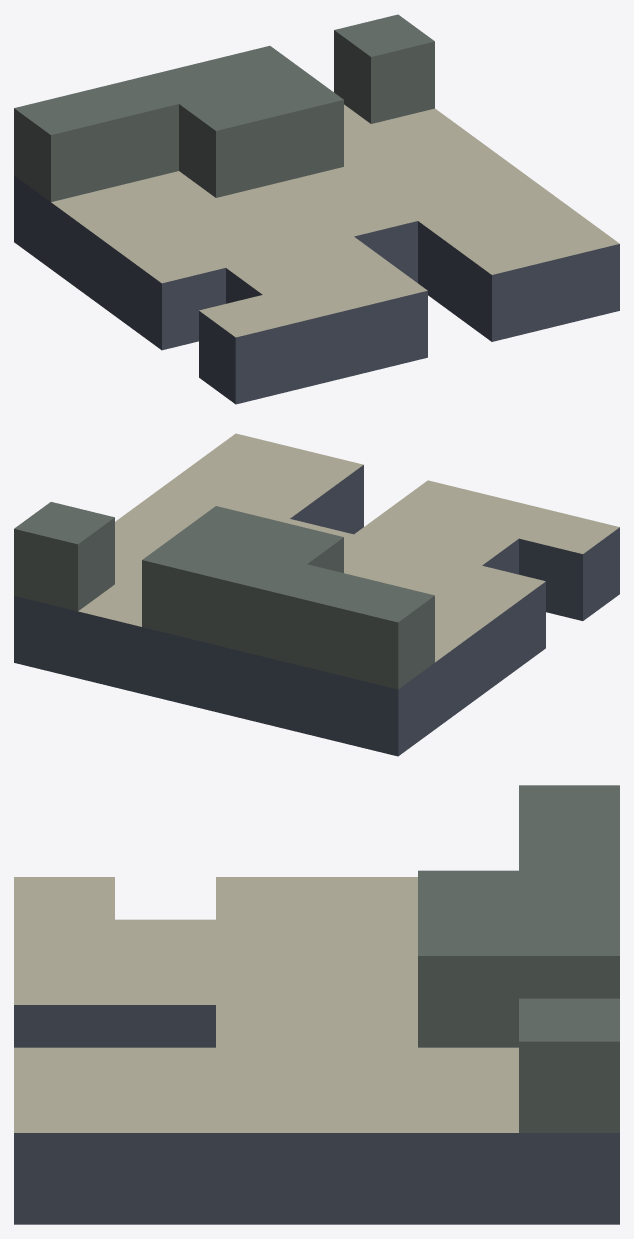
3 views of the same model, one above another, from view 1: azimuth 30°, elevation 25°; view 2: azimuth 150°, elevation 25°; view 3: azimuth 270°, elevation 25° (orthographic). The views are drawn at different scales.
Visible parts, largest first — view 1: 1.1; view 2: 1.1; view 3: 1.1.
Part boxes in pixels (x1,y1,x2,y2): 1.1: (14,14,619,404); 1.1: (14,433,619,756); 1.1: (14,785,619,1224).
Size of the model in its own units: 600 by 200 by 600.
